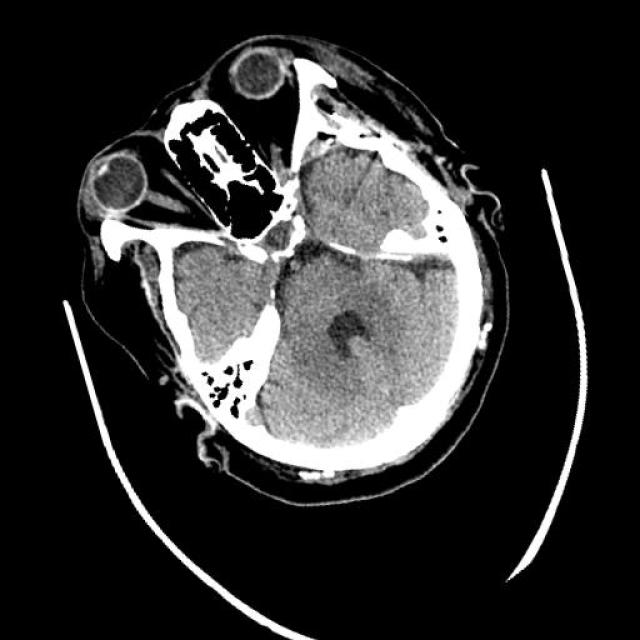Subdural: (264, 88, 370, 208)
